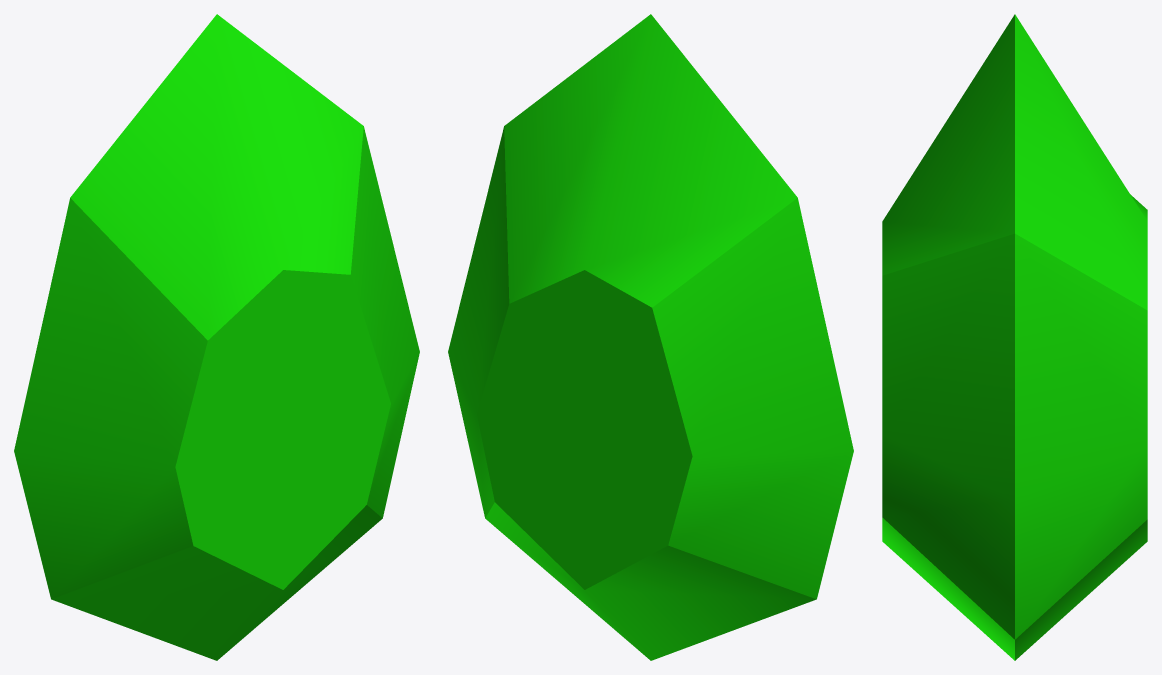
File: jewel.fbx
3 renders of one model, left to right at view 1: azimuth 30°, elevation 25°; view 2: azimuth 150°, elevation 25°; view 3: azimuth 270°, elevation 25°, orthographic.
Parts seen in each view (by area): view 1: pCube3; view 2: pCube3; view 3: pCube3.
Part boxes in pixels (x1,y1,x2,y2): pCube3: (14,14,419,660); pCube3: (448,14,853,660); pCube3: (882,14,1147,660).
Bounding box in the file's own units: 1.2 × 1.83 × 0.6793.
